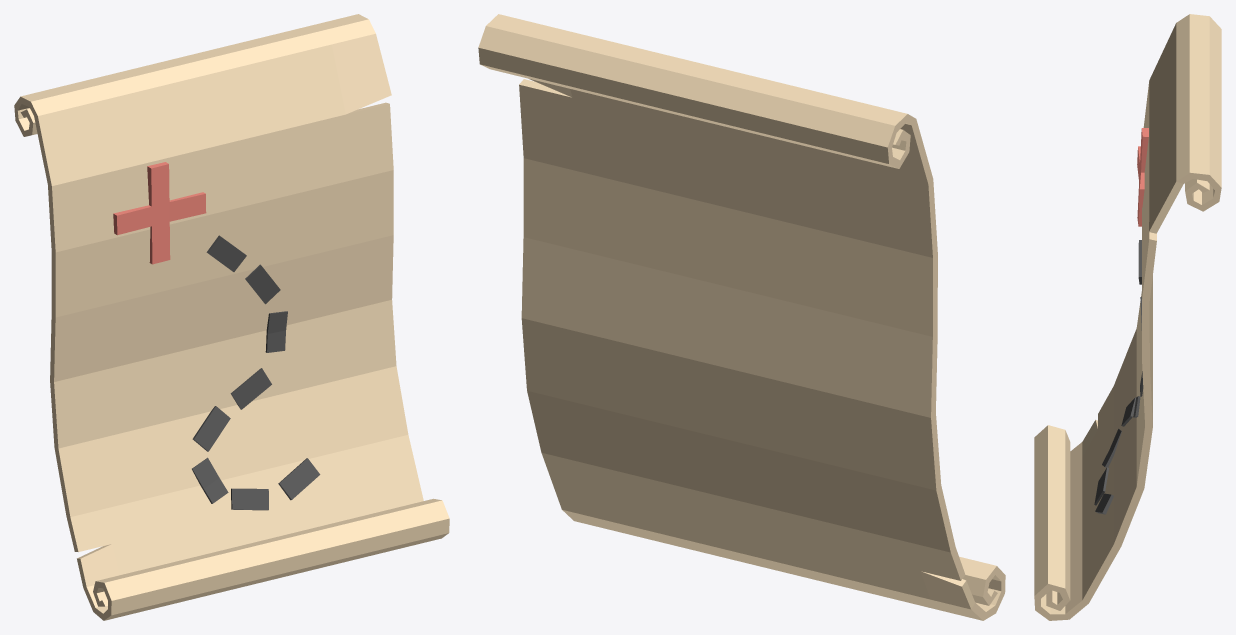
File: map.glb
3 views of the same model, side by side, from view 1: azimuth 30°, elevation 25°; view 2: azimuth 150°, elevation 25°; view 3: azimuth 270°, elevation 25° (orthographic). The views are drawn at different scales.
Visible parts, largest first — view 1: VR_Map_Cube.029; view 2: VR_Map_Cube.029; view 3: VR_Map_Cube.029.
Part boxes in pixels (x1,y1,x2,y2): VR_Map_Cube.029: (14, 14, 449, 620); VR_Map_Cube.029: (478, 14, 1005, 620); VR_Map_Cube.029: (1034, 14, 1221, 620).
Size of the model in its own units: 7.59 by 9.94 by 3.77.
